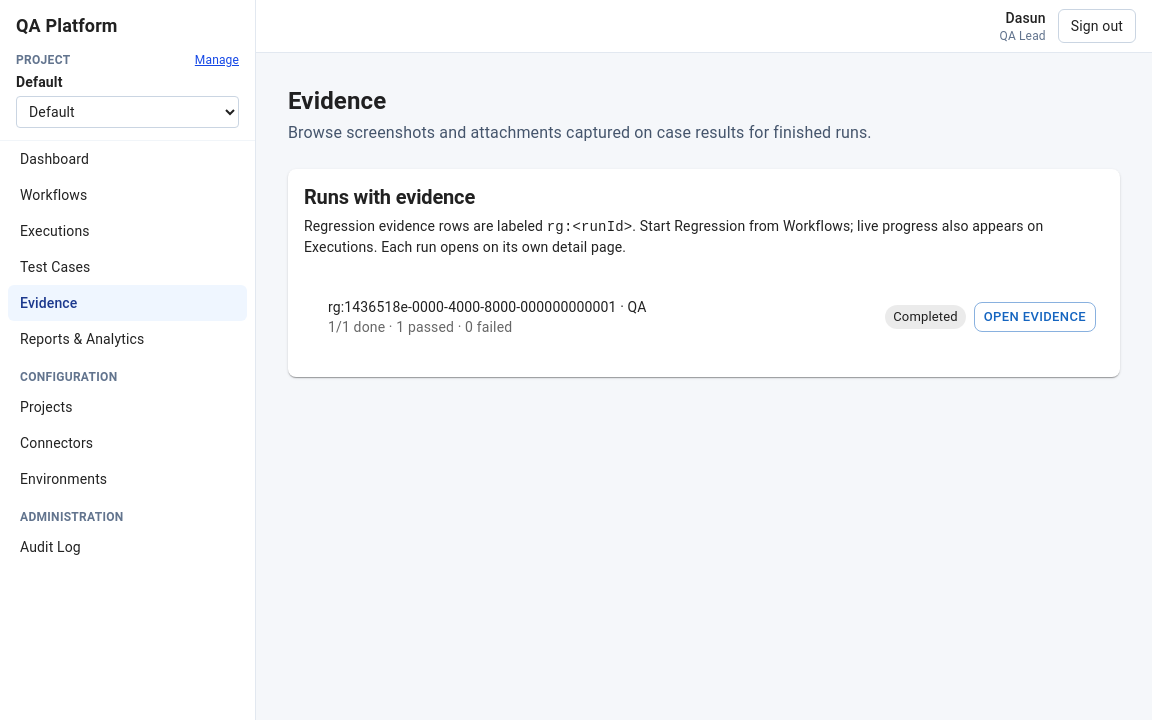
Test case: route guard › Evidence Open evidence navigates to the dedicated run detail page
The image size is (1152, 720).
Expected: the text "Browse screenshots" is shown, [288,123,872,142]
Expected: the element "Runs with evidence" is shown, [288,169,1120,377]
Click the button "Open evidence" at (1035, 317), box [974,302,1096,332]
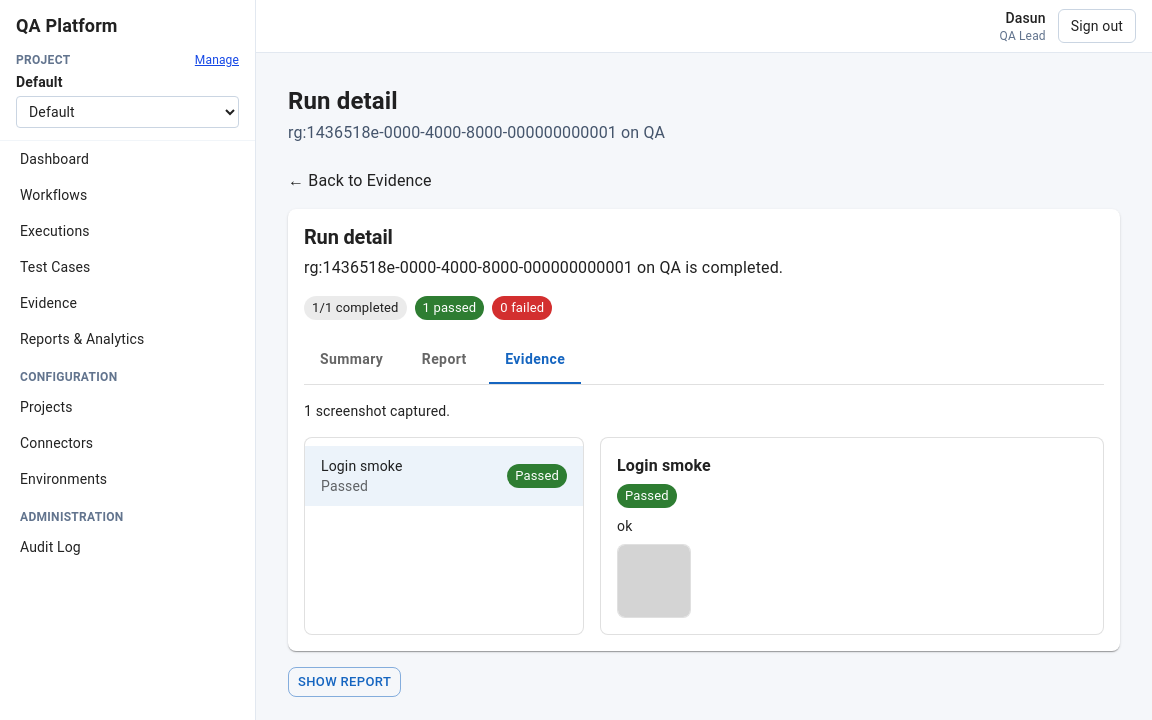
Now the 1st heading "Run detail" is shown, box [288,87,398,115]
Now the link "← Back to Evidence" is shown, box [288,171,432,190]
Now the element named "Run evidence" is shown, box [304,401,1104,635]
